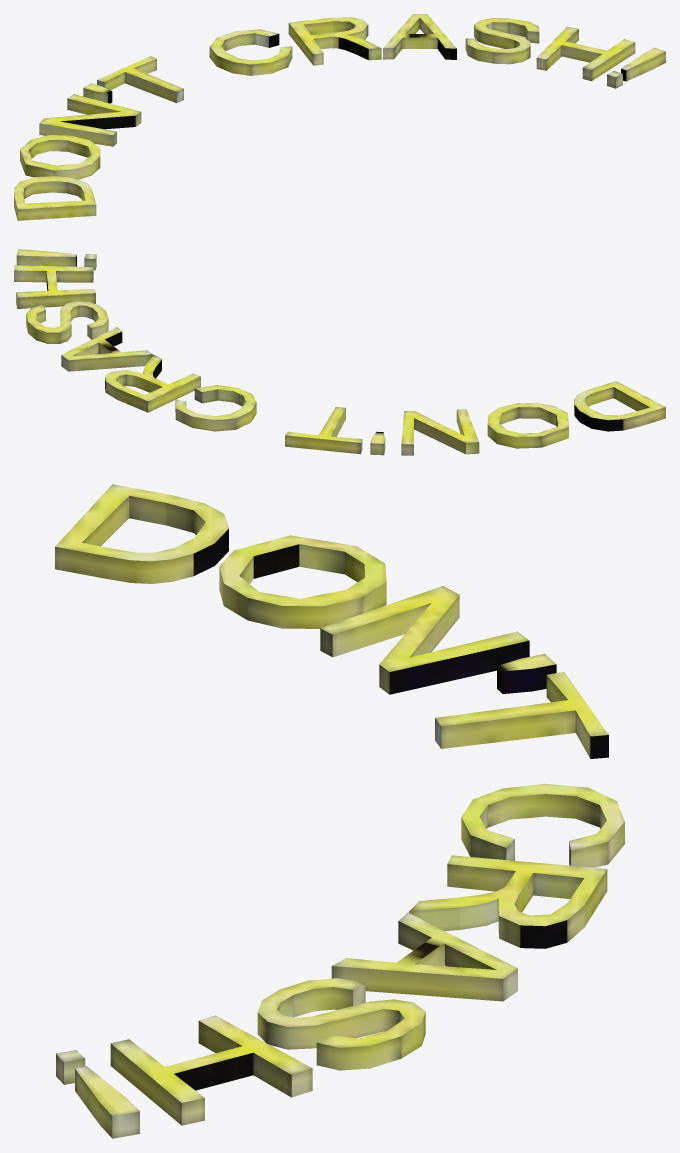
Rendered from crashtext.obj.
3 views of the same model, one above another, from view 1: azimuth 30°, elevation 25°; view 2: azimuth 150°, elevation 25°; view 3: azimuth 270°, elevation 25° (orthographic). The views are drawn at different scales.
Parts seen in each view (by area): view 1: Object007; view 2: Object007; view 3: Object007.
Part boxes in pixels (box(x1,y1,x2,y2)): Object007: box(14, 14, 665, 220); Object007: box(14, 249, 665, 455); Object007: box(55, 484, 624, 1138).
Bounding box in the file's own units: 59.91 × 1 × 22.84.
Materials: 1 (1 with a texture image).
